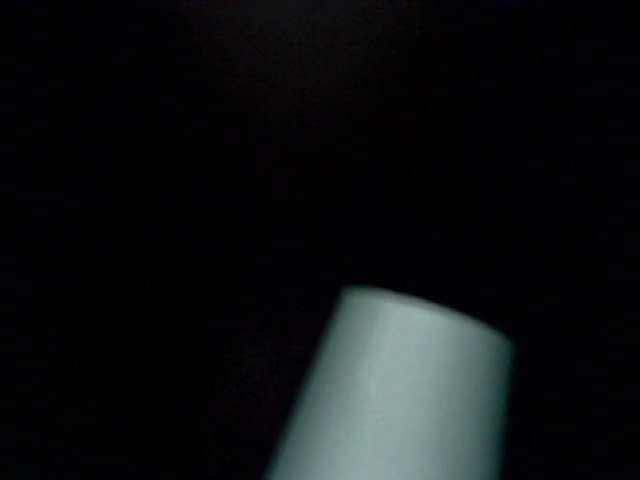KHSLJ: (99, 68, 619, 318)
